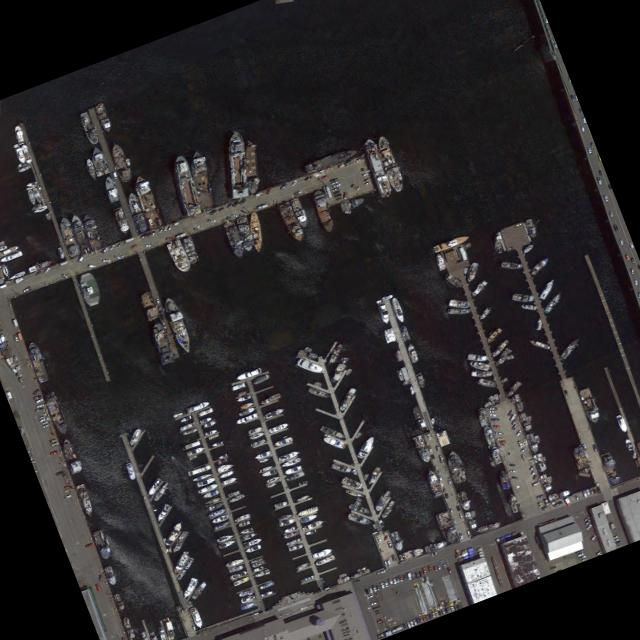large-vehicle: (565, 498, 572, 506), (352, 184, 361, 190), (79, 255, 85, 262), (387, 560, 392, 567), (113, 172, 118, 179), (89, 265, 96, 268)
ship: (163, 295, 196, 356), (171, 153, 202, 216), (374, 133, 406, 194), (362, 137, 393, 198), (132, 173, 163, 230), (305, 145, 360, 174), (227, 130, 250, 199), (189, 150, 214, 210), (278, 201, 308, 245), (43, 390, 71, 437), (312, 188, 337, 235), (150, 321, 176, 366), (26, 340, 51, 384), (125, 191, 150, 234), (109, 141, 134, 183), (77, 271, 105, 308), (58, 216, 82, 259), (69, 212, 92, 255), (223, 219, 247, 259), (444, 448, 469, 486), (578, 387, 602, 426), (167, 239, 193, 275), (60, 437, 84, 475), (435, 510, 460, 546), (245, 139, 260, 194), (432, 233, 471, 254), (81, 213, 103, 250), (600, 451, 622, 487), (76, 483, 97, 520), (79, 111, 100, 147), (89, 145, 111, 177), (92, 529, 114, 561), (237, 215, 255, 253), (94, 103, 115, 135), (249, 211, 264, 254), (140, 290, 160, 322), (573, 445, 593, 477), (290, 197, 310, 229), (424, 467, 443, 499), (413, 434, 432, 464), (182, 236, 201, 266), (559, 337, 581, 362), (296, 358, 326, 376), (113, 206, 131, 235), (543, 291, 564, 314), (338, 388, 358, 412), (357, 435, 377, 459), (103, 175, 120, 203), (165, 521, 184, 546), (390, 297, 407, 324), (412, 405, 428, 433), (530, 256, 551, 276), (399, 546, 425, 562), (341, 195, 367, 211), (320, 425, 347, 440), (494, 347, 513, 368), (491, 338, 510, 359), (539, 278, 556, 301), (27, 259, 53, 274), (189, 606, 205, 630), (236, 367, 263, 381), (153, 481, 171, 502), (191, 579, 209, 600), (340, 476, 365, 491), (348, 502, 373, 517), (375, 490, 392, 512), (327, 343, 344, 365), (186, 400, 212, 414), (329, 363, 347, 383), (377, 301, 392, 325), (121, 616, 136, 640), (103, 565, 119, 587), (173, 553, 189, 575), (424, 539, 449, 553), (548, 488, 573, 502), (85, 158, 99, 183), (323, 436, 347, 450), (331, 461, 355, 475), (347, 512, 371, 526), (308, 386, 332, 400), (163, 616, 177, 640), (182, 578, 198, 599), (525, 432, 540, 454), (457, 490, 472, 512), (478, 521, 503, 534), (366, 466, 382, 486), (171, 533, 187, 553), (518, 412, 533, 433), (533, 453, 548, 474), (390, 531, 405, 552), (278, 449, 302, 462), (471, 280, 488, 298), (444, 272, 463, 288), (482, 425, 497, 445), (529, 338, 552, 351), (188, 464, 211, 477), (0, 250, 23, 263), (280, 456, 303, 469), (236, 412, 259, 425), (525, 218, 539, 239), (505, 381, 522, 398), (486, 327, 503, 344), (297, 349, 321, 361), (14, 143, 27, 165), (264, 407, 286, 420), (313, 547, 335, 560), (381, 500, 396, 519), (476, 407, 490, 427), (490, 446, 504, 466), (464, 511, 478, 531), (466, 262, 479, 283), (406, 343, 419, 364), (512, 394, 526, 413), (539, 474, 553, 493), (156, 504, 170, 523), (469, 359, 491, 371), (268, 422, 290, 434), (304, 519, 326, 531), (297, 505, 319, 517), (260, 393, 282, 405), (499, 470, 512, 490), (113, 592, 126, 612), (0, 244, 20, 257), (436, 430, 451, 447), (508, 493, 520, 514), (21, 143, 33, 164), (14, 125, 26, 146), (129, 428, 143, 446), (148, 478, 162, 496), (512, 293, 537, 303), (616, 414, 629, 433), (7, 270, 27, 282), (197, 476, 217, 488), (383, 327, 397, 344), (350, 568, 371, 579), (449, 299, 472, 309), (274, 436, 293, 448), (208, 507, 227, 519), (125, 462, 137, 481), (286, 471, 306, 482), (316, 555, 336, 566), (501, 261, 525, 270), (435, 253, 447, 271), (217, 461, 235, 473), (494, 233, 504, 254), (345, 489, 366, 499), (193, 472, 214, 482), (200, 483, 219, 494), (187, 446, 206, 457), (252, 374, 271, 385), (467, 353, 490, 362), (399, 325, 411, 342), (225, 558, 245, 568), (285, 464, 303, 475), (239, 406, 257, 417), (219, 538, 237, 549), (233, 576, 251, 587), (214, 520, 232, 531), (207, 501, 225, 512), (231, 569, 249, 580), (478, 378, 497, 388), (244, 537, 263, 547), (216, 533, 235, 543), (32, 187, 43, 204), (32, 204, 49, 215), (416, 372, 427, 389), (301, 513, 318, 524), (228, 494, 246, 504), (27, 189, 37, 206), (184, 440, 201, 450), (221, 476, 238, 486), (255, 450, 272, 460), (250, 438, 267, 448), (261, 468, 278, 478), (279, 517, 296, 527), (245, 544, 262, 554), (235, 513, 252, 523), (212, 514, 229, 524), (241, 594, 258, 604), (479, 307, 492, 320), (471, 370, 495, 377), (203, 489, 219, 499), (289, 543, 305, 553), (522, 243, 535, 255), (0, 263, 11, 277), (205, 496, 222, 505), (277, 512, 294, 521), (241, 532, 258, 541), (238, 588, 255, 597), (284, 530, 299, 540), (252, 559, 267, 569), (448, 308, 472, 314), (231, 382, 247, 391), (218, 470, 234, 479), (182, 427, 198, 436), (180, 422, 196, 431), (250, 431, 266, 440), (248, 426, 264, 435), (266, 475, 282, 484), (286, 537, 302, 546), (254, 569, 270, 578), (259, 581, 275, 590), (394, 348, 404, 362), (237, 394, 252, 403), (296, 562, 311, 571), (274, 500, 289, 509), (241, 602, 256, 611), (624, 438, 634, 451), (184, 557, 194, 570), (229, 565, 245, 573), (520, 304, 538, 311), (57, 246, 66, 260), (157, 626, 166, 640), (337, 575, 351, 584), (17, 165, 32, 173), (240, 401, 255, 409), (301, 575, 316, 583), (239, 527, 254, 535), (204, 420, 218, 428), (396, 370, 405, 382), (228, 490, 241, 498), (180, 415, 192, 423), (297, 494, 309, 502), (239, 520, 251, 528), (205, 429, 218, 436), (354, 431, 364, 440), (140, 630, 149, 640), (178, 570, 187, 580), (212, 440, 223, 448), (382, 294, 394, 301), (26, 184, 38, 191), (305, 529, 317, 536), (284, 526, 296, 533), (261, 590, 273, 597), (149, 631, 158, 640), (200, 417, 213, 423), (356, 566, 367, 573), (208, 433, 219, 440), (217, 458, 228, 465), (263, 465, 274, 472), (259, 457, 270, 464), (267, 482, 278, 489), (253, 566, 264, 573), (408, 386, 416, 395), (484, 401, 493, 409), (488, 394, 496, 403), (493, 393, 501, 402), (275, 0, 293, 4), (402, 379, 412, 386), (18, 161, 28, 168), (26, 181, 37, 187), (173, 412, 184, 418), (490, 460, 498, 468), (526, 415, 534, 423), (345, 368, 353, 376), (341, 357, 349, 365), (378, 519, 385, 528), (470, 510, 477, 519), (354, 500, 363, 507), (314, 381, 323, 388), (45, 212, 52, 221), (187, 600, 194, 609), (304, 346, 313, 353), (339, 572, 348, 579), (536, 320, 542, 330), (16, 372, 26, 378), (356, 496, 364, 503), (13, 355, 20, 363), (501, 377, 509, 384), (507, 354, 515, 361), (463, 267, 470, 275), (219, 453, 228, 459), (299, 480, 308, 486), (352, 469, 359, 476), (15, 365, 22, 372), (152, 504, 158, 512), (9, 363, 17, 369), (0, 245, 8, 251), (189, 455, 198, 460), (372, 523, 378, 530), (365, 473, 370, 481), (126, 158, 131, 166), (344, 210, 352, 215), (19, 377, 25, 383), (320, 577, 325, 584), (633, 451, 637, 459), (377, 299, 383, 304), (466, 243, 472, 248), (183, 551, 190, 555), (171, 455, 175, 460), (432, 418, 435, 424)
small-vehicle: (554, 501, 563, 508), (355, 156, 364, 163), (100, 247, 109, 254), (329, 177, 339, 183), (50, 450, 60, 456), (22, 286, 32, 292), (371, 584, 378, 592), (280, 183, 288, 190), (209, 209, 217, 216), (377, 569, 386, 575), (575, 549, 584, 555), (35, 398, 44, 404), (44, 267, 51, 274), (232, 200, 239, 207), (240, 198, 247, 205), (439, 455, 445, 463), (570, 94, 576, 102), (597, 177, 603, 185), (582, 443, 588, 451), (95, 583, 101, 591), (537, 494, 546, 499), (332, 183, 341, 188), (293, 190, 302, 195), (36, 407, 45, 412), (56, 471, 65, 476), (49, 438, 58, 443), (427, 565, 433, 572), (603, 195, 609, 202), (613, 225, 619, 232), (518, 441, 524, 448), (510, 414, 516, 421), (33, 389, 40, 395), (226, 203, 233, 209), (353, 579, 361, 584), (406, 621, 411, 629), (411, 573, 416, 581), (532, 481, 540, 486), (593, 444, 598, 452), (34, 395, 42, 400), (14, 334, 19, 342), (86, 543, 94, 548), (51, 442, 59, 447), (343, 191, 348, 199), (207, 219, 217, 223), (596, 487, 602, 493), (508, 410, 514, 416), (584, 516, 590, 522), (574, 495, 580, 501), (586, 524, 592, 530), (529, 465, 535, 471), (516, 430, 522, 436), (512, 424, 518, 430), (585, 519, 591, 525), (591, 534, 597, 540), (597, 550, 603, 556), (292, 180, 298, 186), (141, 233, 147, 239), (159, 227, 165, 233), (614, 540, 621, 545), (436, 445, 441, 452), (428, 445, 433, 452), (377, 536, 382, 543), (388, 541, 393, 548), (392, 554, 397, 561), (444, 607, 449, 614), (459, 532, 464, 539), (438, 474, 443, 481), (550, 565, 557, 570), (371, 601, 378, 606), (380, 582, 385, 589), (413, 619, 418, 626), (448, 567, 453, 574), (443, 564, 448, 571), (419, 570, 424, 577), (415, 571, 420, 578), (399, 575, 404, 582), (625, 254, 630, 261), (553, 42, 558, 49), (619, 239, 624, 246), (589, 488, 594, 495), (583, 491, 588, 498), (332, 187, 339, 192), (362, 172, 369, 177), (43, 424, 50, 429), (131, 244, 138, 249), (333, 190, 340, 195), (511, 476, 519, 480), (373, 606, 381, 610), (578, 555, 586, 559), (363, 178, 371, 182), (37, 404, 45, 408), (334, 193, 342, 197), (197, 225, 205, 229), (431, 454, 436, 460), (427, 434, 432, 440), (384, 535, 389, 541), (441, 609, 446, 615), (456, 505, 461, 511), (532, 474, 537, 480), (593, 488, 598, 494), (425, 614, 430, 620), (369, 587, 374, 593), (402, 623, 407, 629), (410, 621, 415, 627), (388, 578, 393, 584), (393, 578, 398, 584), (630, 268, 635, 274), (634, 280, 639, 286), (590, 142, 595, 148), (629, 242, 634, 248), (587, 148, 592, 154), (598, 170, 603, 176), (609, 211, 614, 217), (531, 470, 536, 476), (521, 448, 527, 453), (512, 419, 517, 425), (193, 227, 199, 232), (365, 181, 371, 186), (117, 243, 123, 248), (109, 245, 115, 250), (119, 253, 125, 258), (147, 231, 152, 237), (36, 271, 42, 276), (304, 176, 310, 181), (266, 189, 272, 194), (168, 225, 173, 231), (367, 595, 374, 599), (434, 565, 438, 572), (423, 568, 427, 575), (577, 553, 584, 557), (331, 181, 338, 185), (322, 176, 329, 180), (64, 495, 71, 499), (42, 421, 49, 425), (114, 255, 121, 259), (62, 274, 69, 278), (145, 244, 154, 247), (449, 508, 454, 513), (422, 616, 427, 621), (365, 589, 370, 594), (384, 582, 389, 587), (419, 617, 424, 622), (416, 618, 421, 623), (613, 538, 619, 542), (448, 479, 452, 485), (435, 611, 439, 617), (432, 612, 436, 618), (496, 432, 504, 435), (493, 425, 501, 428), (492, 418, 500, 421), (489, 414, 497, 417), (489, 410, 497, 413), (445, 493, 449, 499), (429, 613, 433, 619), (438, 565, 442, 571), (396, 576, 400, 582), (631, 258, 635, 264), (612, 535, 618, 539), (586, 489, 590, 495), (564, 390, 568, 396), (99, 575, 103, 581), (64, 485, 70, 489), (39, 416, 45, 420), (40, 418, 46, 422), (103, 259, 111, 262), (231, 214, 239, 217), (219, 207, 225, 211), (509, 464, 516, 467), (498, 438, 505, 441), (500, 443, 507, 446), (167, 237, 174, 240), (459, 513, 463, 518), (403, 575, 407, 580), (377, 585, 381, 590), (581, 127, 585, 132), (582, 558, 587, 562), (121, 636, 126, 640), (336, 197, 341, 201), (152, 231, 156, 236), (439, 610, 442, 616), (489, 408, 498, 410), (444, 487, 447, 493), (637, 264, 640, 270), (510, 470, 516, 473), (226, 216, 232, 219), (500, 441, 506, 443), (638, 293, 640, 299)
